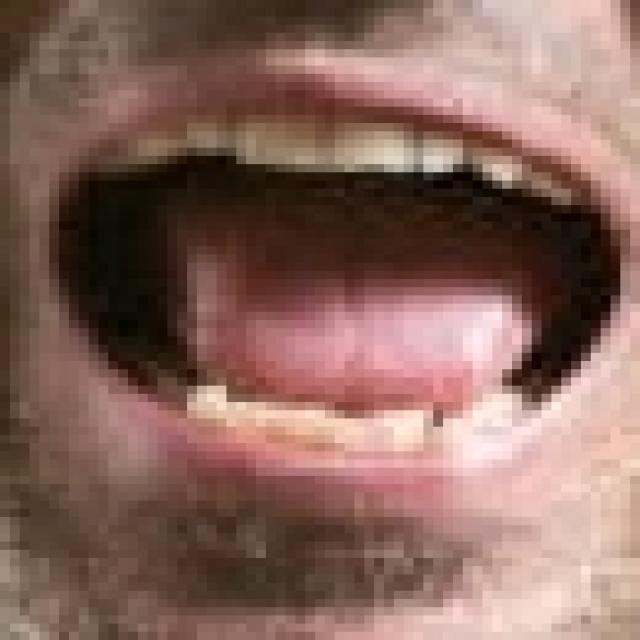open-mouth: (29, 58, 630, 492)
